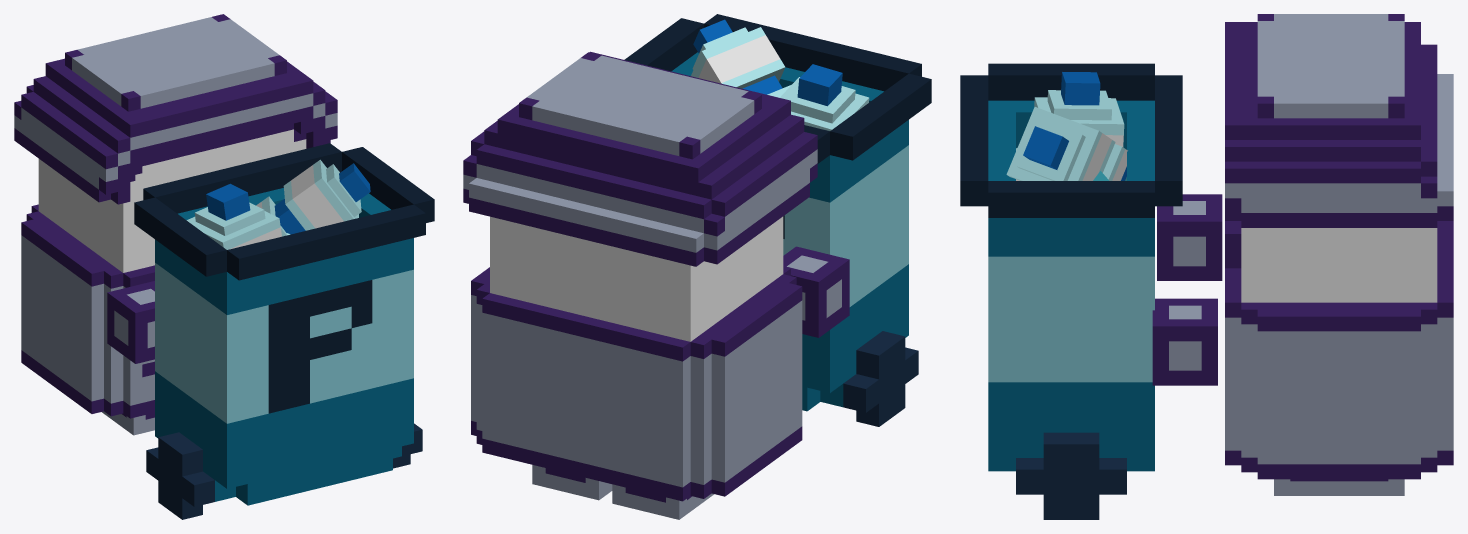
The model's file is p3_plas_con.gltf.
3 views of the same model, side by side, from view 1: azimuth 30°, elevation 25°; view 2: azimuth 150°, elevation 25°; view 3: azimuth 270°, elevation 25° (orthographic). The views are drawn at different scales.
Visible parts, largest first — view 1: Object_0.001, Object_0.000, Object_0.005, Object_0.004, Object_0; view 2: Object_0.000, Object_0.001, Object_0.005, Object_0, Object_0.004; view 3: Object_0.000, Object_0.001, Object_0.005, Object_0.002, Object_0, Object_0.004.
Boxes of the visible parts, x1,y1,x2,y2 form: Object_0.001: [134, 143, 434, 519]; Object_0.000: [14, 14, 337, 435]; Object_0.005: [256, 159, 370, 236]; Object_0.004: [186, 183, 281, 249]; Object_0: [107, 281, 154, 363]; Object_0.000: [463, 51, 817, 519]; Object_0.001: [624, 14, 931, 426]; Object_0.005: [691, 19, 794, 97]; Object_0: [783, 246, 849, 337]; Object_0.004: [780, 64, 869, 130]; Object_0.000: [1225, 14, 1453, 495]; Object_0.001: [960, 63, 1182, 519]; Object_0.005: [1006, 107, 1127, 180]; Object_0.002: [1152, 298, 1217, 385]; Object_0: [1157, 194, 1222, 280]; Object_0.004: [1034, 72, 1124, 146].
Size of the model in its own units: 1.93 by 2.7 by 3.02.
8 materials, 8 textured.
